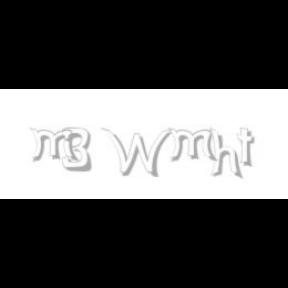3: (62, 128, 94, 172)
W: (100, 128, 172, 178)
h: (210, 128, 244, 180)
m: (28, 128, 80, 162), (167, 128, 219, 162)
t: (237, 128, 259, 168)
